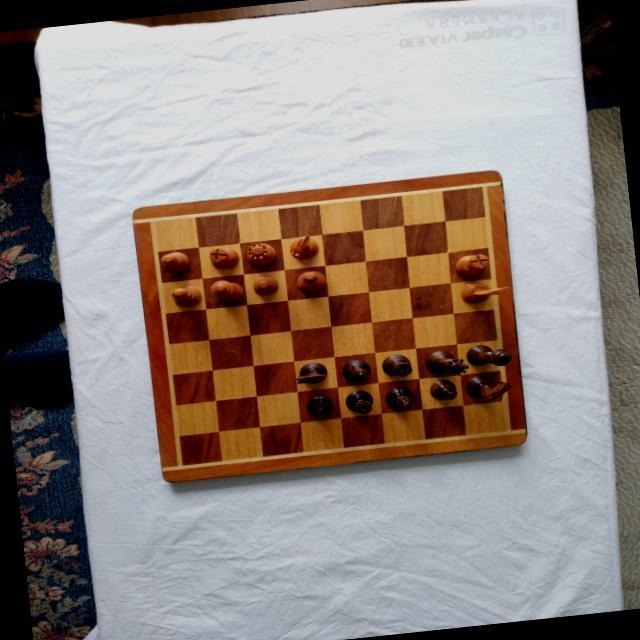black-bishop: (383, 384, 417, 414), (340, 358, 372, 386)
black-king: (465, 341, 511, 371)
black-knight: (466, 375, 512, 405), (294, 359, 330, 388)
black-pawn: (301, 393, 334, 421), (426, 376, 457, 403)
black-queen: (426, 350, 470, 378)
black-rook: (341, 387, 374, 417), (382, 352, 414, 379)
white-bishop: (294, 267, 328, 295), (170, 283, 202, 311)
white-king: (208, 275, 244, 306)
white-knight: (458, 275, 510, 305), (286, 231, 318, 260)
white-pawn: (158, 249, 190, 274), (249, 274, 279, 300)
white-queen: (240, 239, 276, 268)
white-rook: (449, 250, 490, 282), (206, 244, 238, 271)
